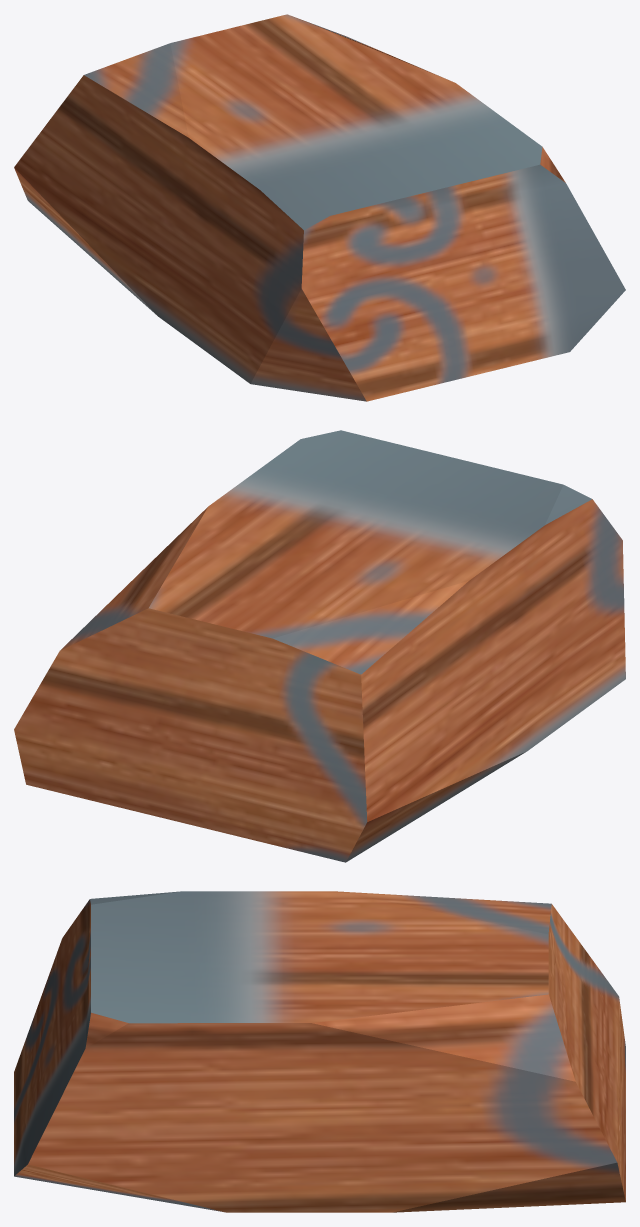
Rendered from Kamen_normal4.fbx.
The picture shows the model from 3 angles, top to bottom: view 1: azimuth 30°, elevation 25°; view 2: azimuth 150°, elevation 25°; view 3: azimuth 270°, elevation 25°; orthographic projection. The views are drawn at different scales.
Visible parts, largest first — view 1: Kamen_normal4; view 2: Kamen_normal4; view 3: Kamen_normal4.
Part boxes in pixels (<box>): Kamen_normal4: <box>14,14,625,401</box>; Kamen_normal4: <box>14,430,625,862</box>; Kamen_normal4: <box>14,891,625,1212</box>.
Bounding box in the file's own units: 9.56 × 4.24 × 14.04.
